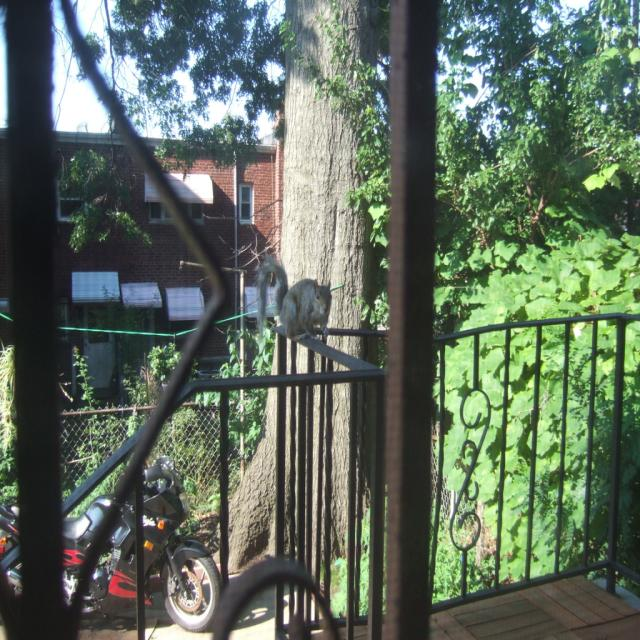Motorbikes: (1, 462, 225, 634)
